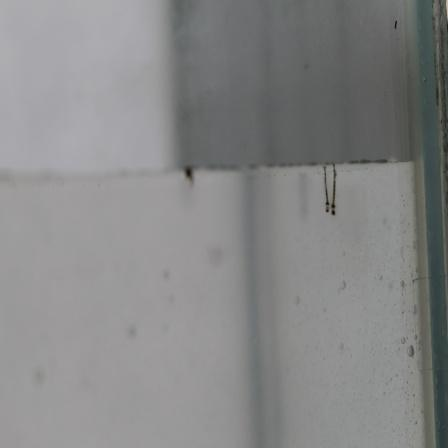Jentik-Nyamuk: (317, 160, 345, 219)
